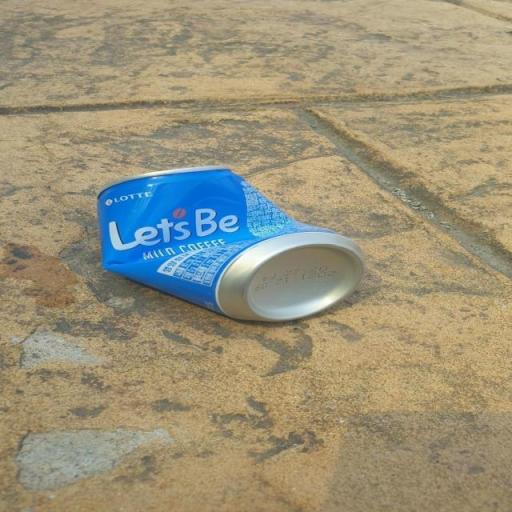metal: (9, 139, 417, 377)
